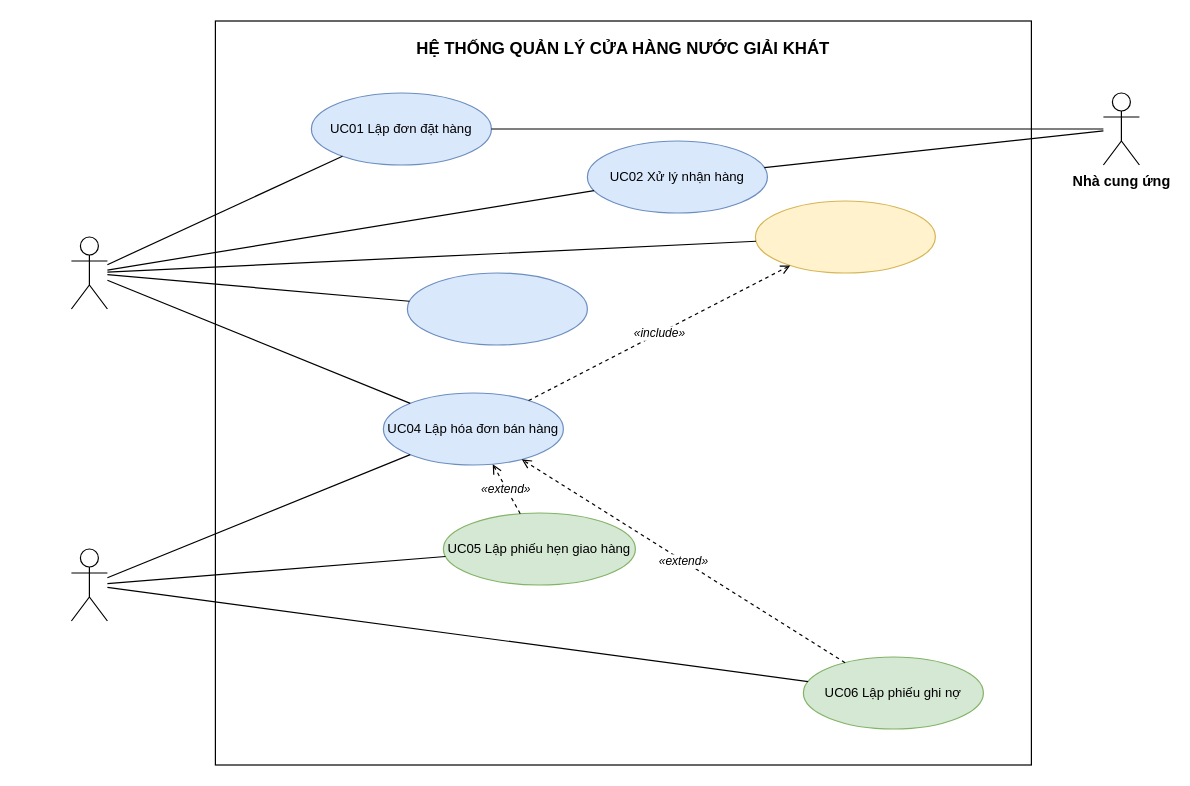
Image size: 1190x786. Some labels were removed from this diagram. The shapes that lost their labels are listed below. From the top down, each one's centre as x and y in pixels, then its label:
At point 844,236: "UC03 Kiểm tra kho".
At point 88,272: "Nhân viên cửa hàng".
At point 496,308: "UC07 Tra cứu và thống kê".
At point 88,584: "Khách hàng".
